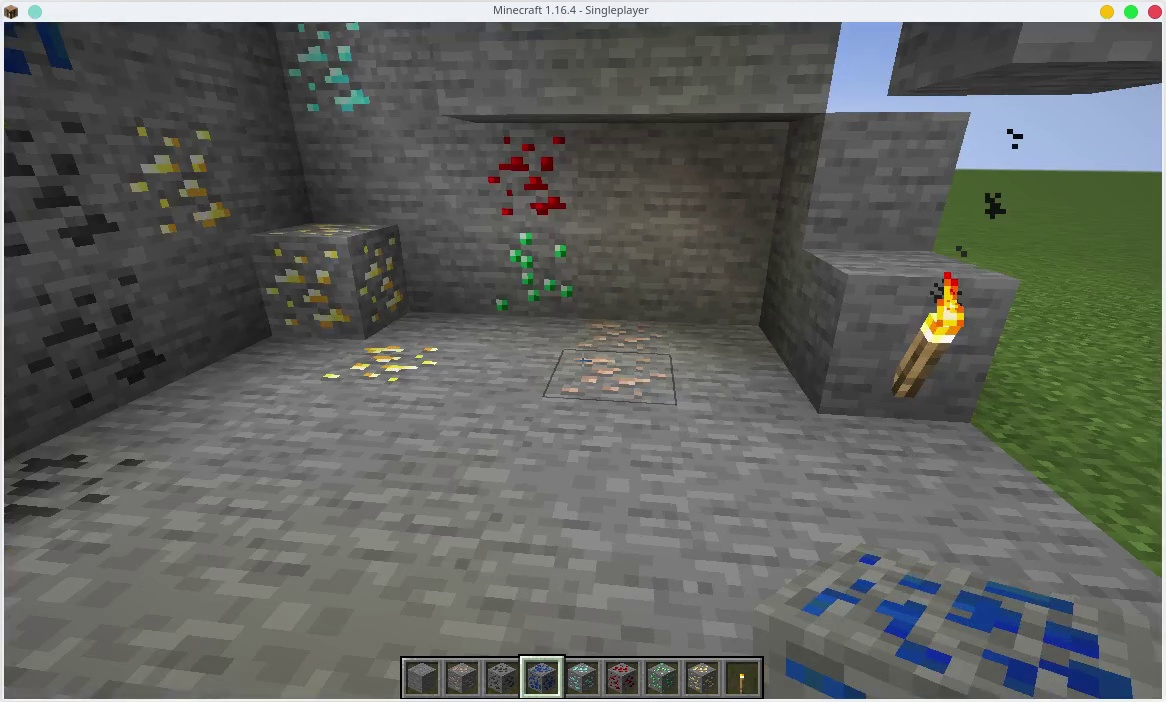gold: (256, 223, 407, 339), (126, 121, 244, 235), (320, 343, 450, 392), (686, 660, 719, 695)
